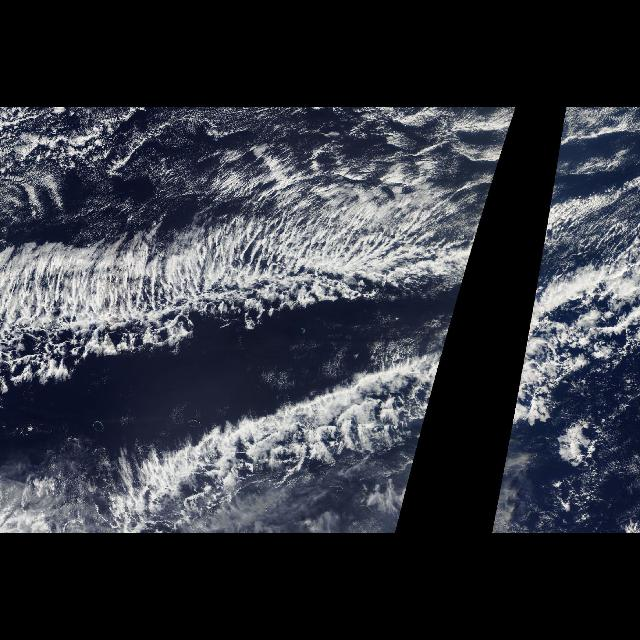Fish: (0, 161, 500, 534), (490, 161, 638, 534)
Sugar: (1, 108, 517, 356), (544, 108, 638, 238)
